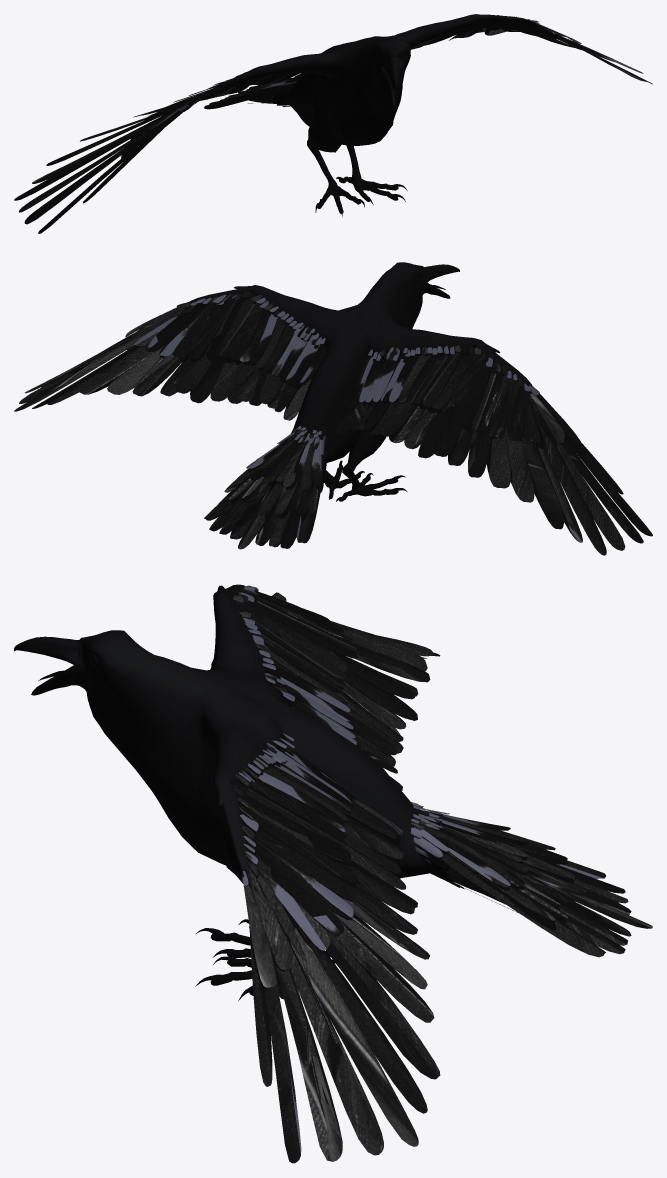
File: raven.obj
3 views of the same model, one above another, from view 1: azimuth 30°, elevation 25°; view 2: azimuth 150°, elevation 25°; view 3: azimuth 270°, elevation 25° (orthographic). The views are drawn at different scales.
Parts seen in each view (by area): view 1: Raven; view 2: Raven; view 3: Raven.
Boxes of the visible parts, left/top/right/bottom form: Raven: left=14, top=14, right=652, bottom=233; Raven: left=14, top=262, right=652, bottom=555; Raven: left=14, top=584, right=652, bottom=1163.
Size of the model in its own units: 1.82 by 0.539 by 0.9635.
1 material, 1 textured.
